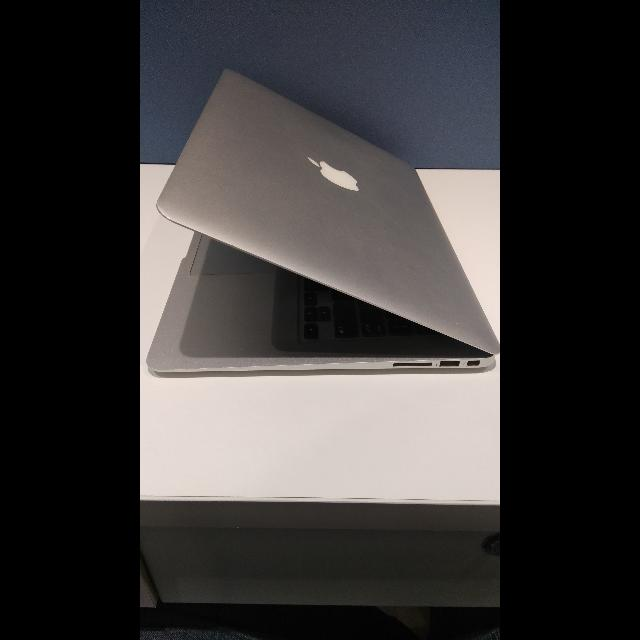Laptop: (144, 61, 500, 390)
